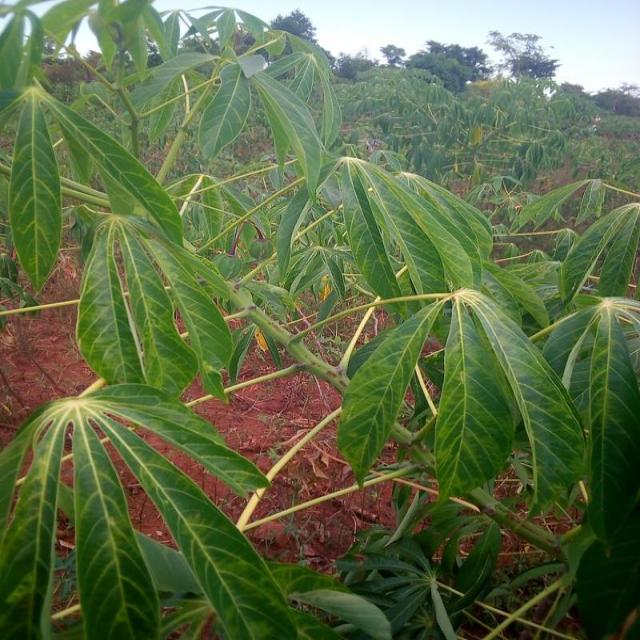cassava leaf: (432, 287, 586, 515), (335, 294, 445, 488), (7, 88, 62, 291)
